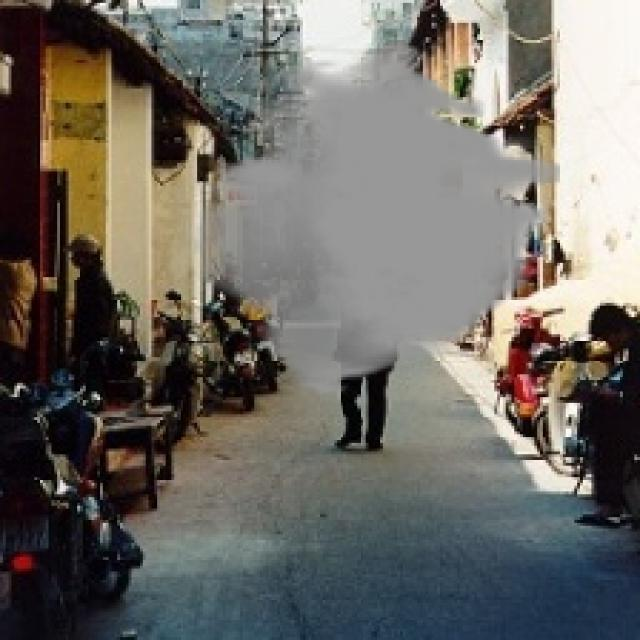Smoke: (195, 42, 560, 398)
